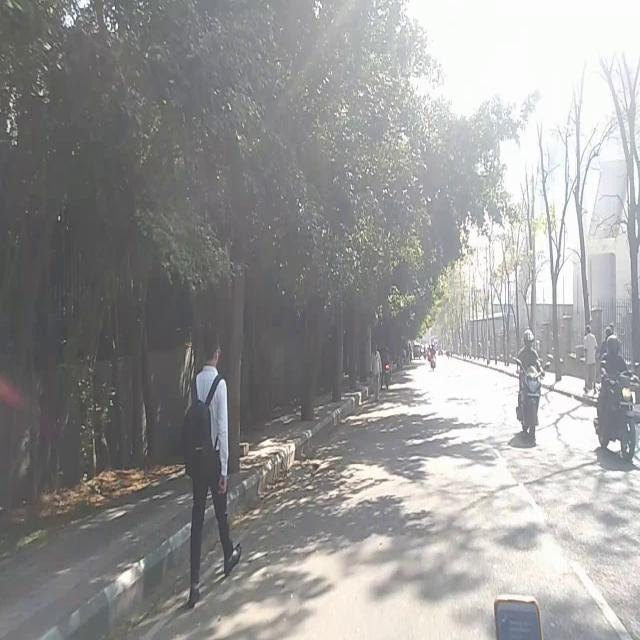motorcycle: (611, 380, 640, 464), (517, 370, 544, 444)
person: (181, 320, 243, 600), (601, 327, 635, 378), (582, 320, 600, 395), (517, 328, 544, 371), (368, 342, 384, 404)
road: (166, 493, 640, 640), (303, 434, 599, 498), (346, 366, 596, 434), (548, 391, 589, 434)
sidewalk: (0, 529, 165, 640), (242, 432, 302, 491), (141, 456, 184, 525), (460, 349, 522, 374), (303, 407, 342, 431), (558, 370, 584, 394)
